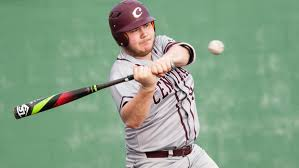baseball: (207, 37, 226, 57)
baseball bat: (13, 73, 138, 122)
baseball player: (107, 1, 221, 168)
